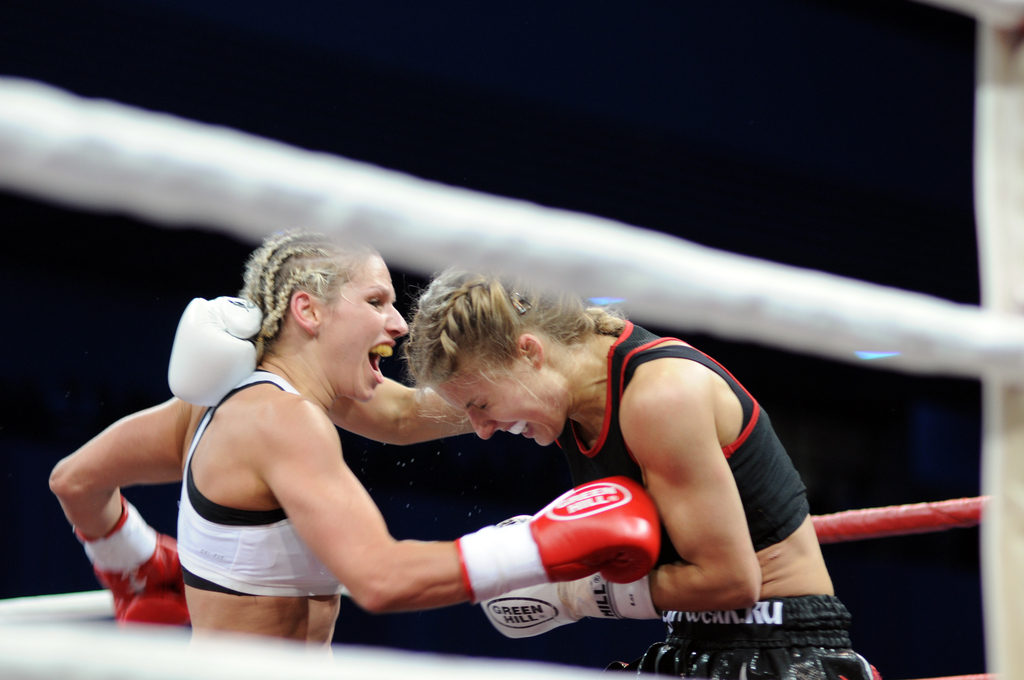Person: (169, 262, 875, 680)
